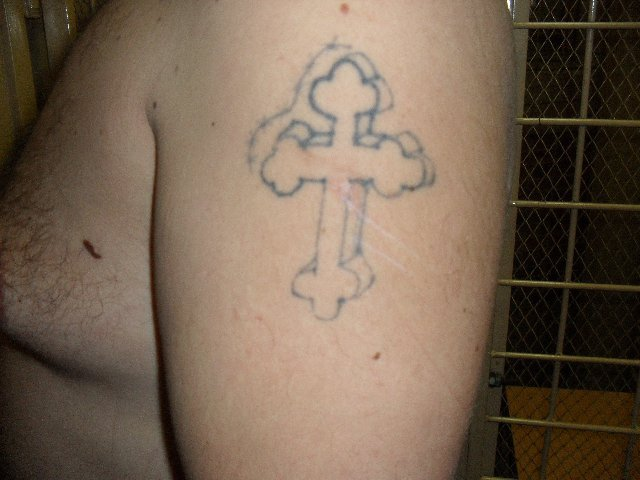tatu9_krest: (255, 42, 443, 334)
